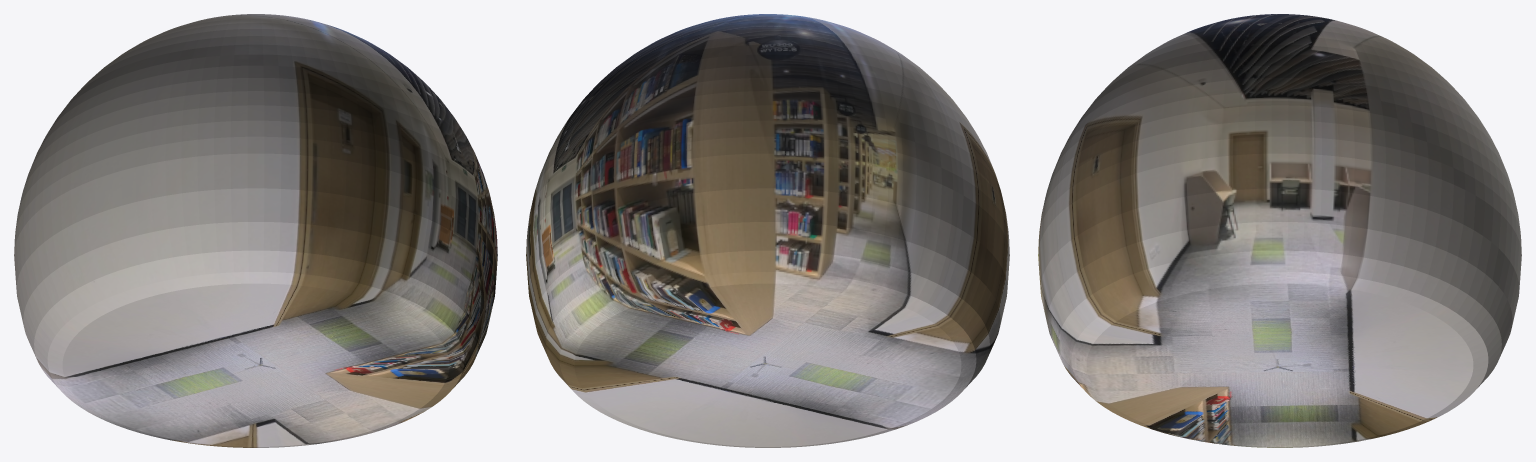
The model's file is library-corridor-039.glb.
The picture shows the model from 3 angles, left to right: view 1: azimuth 30°, elevation 25°; view 2: azimuth 150°, elevation 25°; view 3: azimuth 270°, elevation 25°; orthographic projection.
Size of the model in its own units: 2 by 1.5 by 2.
1 material, 1 textured.
